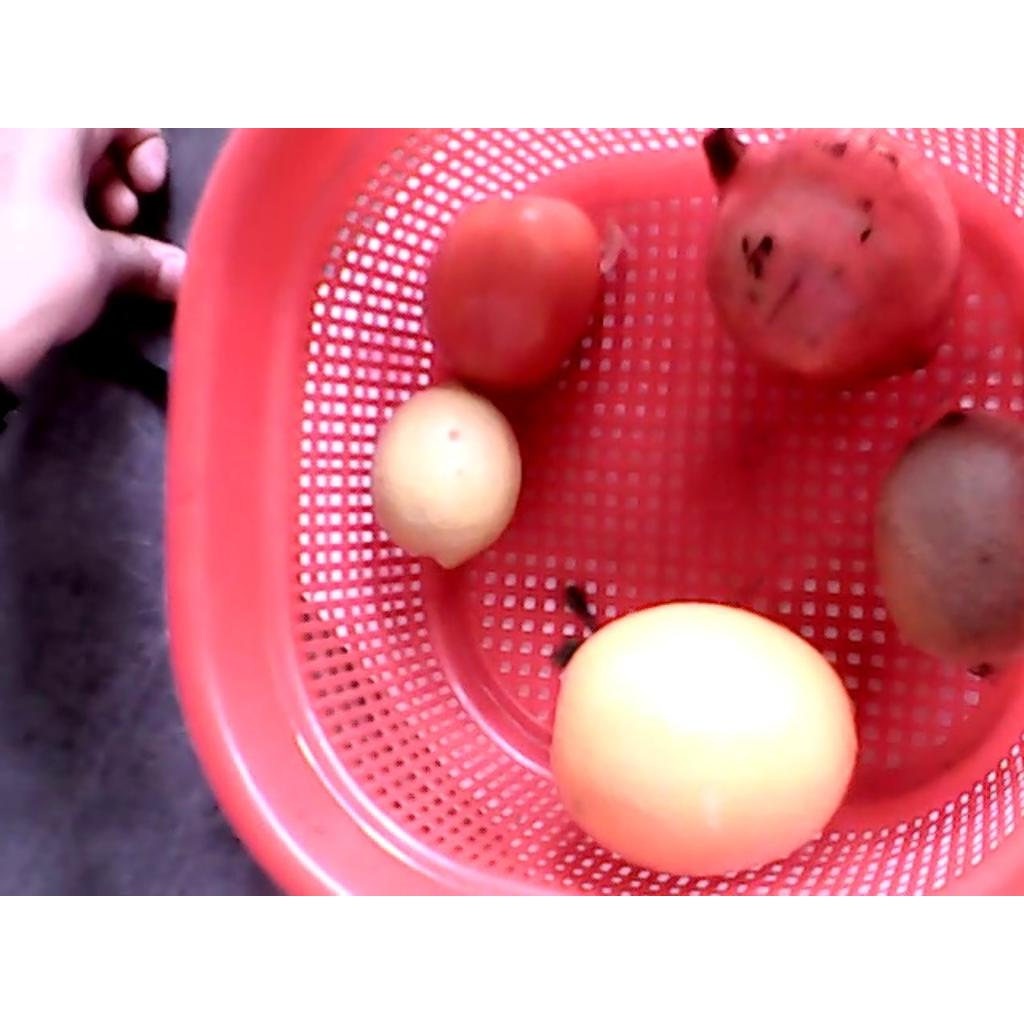kiwi: (871, 406, 1020, 677)
lemon: (368, 388, 522, 568)
orange: (545, 601, 859, 877)
pomegranate: (700, 129, 963, 391)
tomato: (425, 195, 598, 393)
